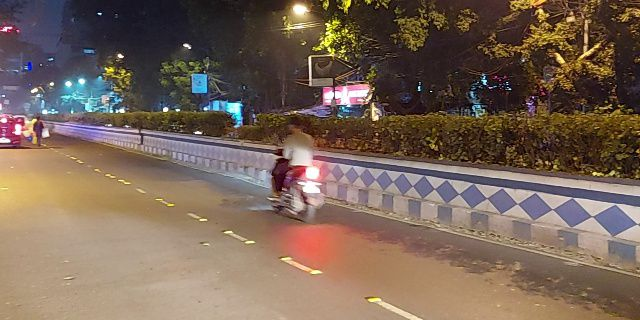Motorbike: (263, 111, 325, 222)
